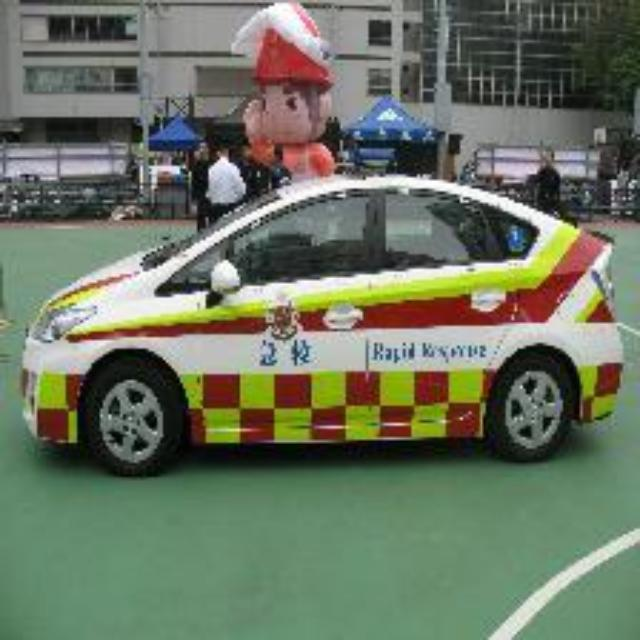emergency: (23, 173, 623, 461)
